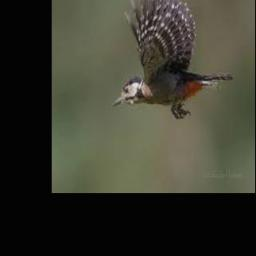Woodpecker: (109, 0, 232, 118)
